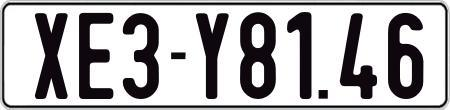1: (286, 9, 312, 96)
3: (120, 12, 162, 102)
4: (338, 12, 381, 100)
6: (388, 10, 429, 102)
8: (238, 10, 278, 103)
E: (76, 13, 114, 102)
X: (35, 10, 74, 98)
Y: (193, 12, 232, 98)
